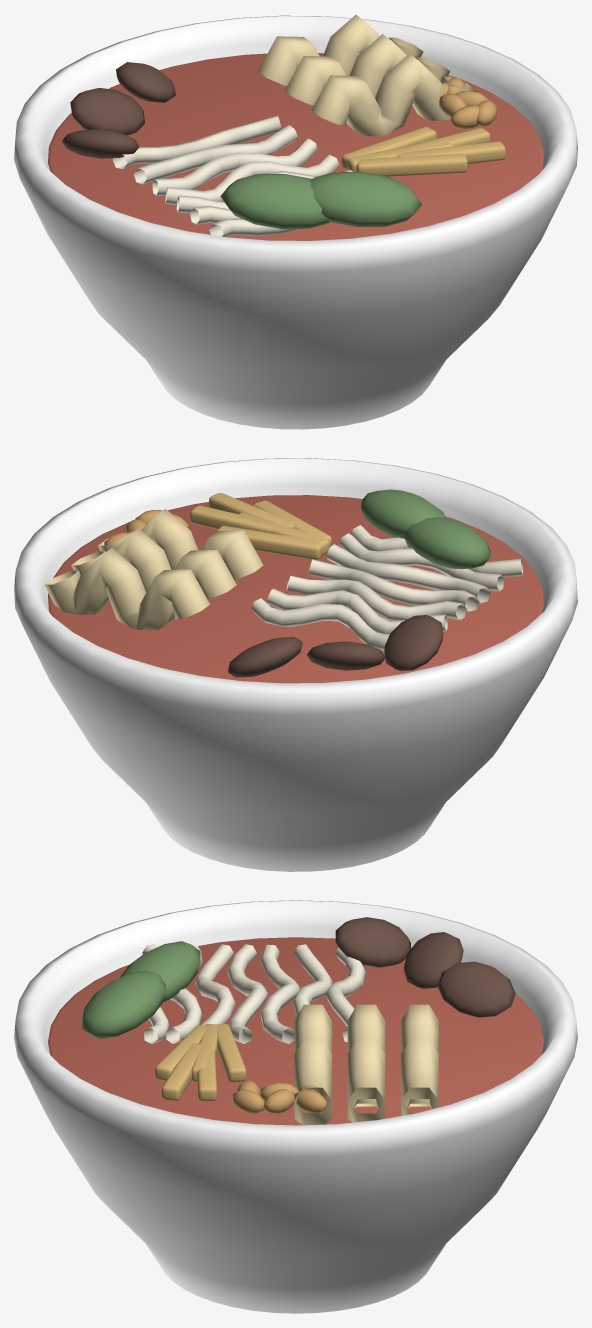
File: option-luosifen.glb
The picture shows the model from 3 angles, top to bottom: view 1: azimuth 30°, elevation 25°; view 2: azimuth 150°, elevation 25°; view 3: azimuth 270°, elevation 25°; orthographic projection.
Visible parts, largest first — view 1: Model_Luosifen_Surface, Model_Luosifen_Tomato, Model_Luosifen_Bread, Model_Luosifen_Rice, Model_Luosifen_Leaf, Model_Luosifen_Patty, Model_Luosifen_Cheese, Model_Luosifen_Bun; view 2: Model_Luosifen_Surface, Model_Luosifen_Tomato, Model_Luosifen_Rice, Model_Luosifen_Bread, Model_Luosifen_Patty, Model_Luosifen_Leaf, Model_Luosifen_Cheese, Model_Luosifen_Bun; view 3: Model_Luosifen_Surface, Model_Luosifen_Tomato, Model_Luosifen_Bread, Model_Luosifen_Rice, Model_Luosifen_Patty, Model_Luosifen_Leaf, Model_Luosifen_Cheese, Model_Luosifen_Bun.
Part boxes in pixels (bbox=[...]): Model_Luosifen_Surface: bbox=[14, 15, 577, 429]; Model_Luosifen_Tomato: bbox=[48, 53, 543, 240]; Model_Luosifen_Bread: bbox=[258, 15, 476, 136]; Model_Luosifen_Rice: bbox=[112, 115, 352, 236]; Model_Luosifen_Leaf: bbox=[220, 172, 421, 228]; Model_Luosifen_Patty: bbox=[62, 62, 175, 158]; Model_Luosifen_Cheese: bbox=[341, 127, 505, 176]; Model_Luosifen_Bun: bbox=[439, 77, 496, 129]; Model_Luosifen_Surface: bbox=[14, 458, 577, 871]; Model_Luosifen_Tomato: bbox=[48, 495, 543, 683]; Model_Luosifen_Rice: bbox=[251, 525, 522, 650]; Model_Luosifen_Bread: bbox=[44, 508, 263, 630]; Model_Luosifen_Patty: bbox=[227, 615, 443, 677]; Model_Luosifen_Leaf: bbox=[360, 489, 490, 569]; Model_Luosifen_Cheese: bbox=[190, 493, 331, 559]; Model_Luosifen_Bun: bbox=[104, 509, 188, 545]; Model_Luosifen_Surface: bbox=[14, 900, 577, 1313]; Model_Luosifen_Tomato: bbox=[48, 937, 543, 1125]; Model_Luosifen_Bread: bbox=[294, 1004, 438, 1125]; Model_Luosifen_Rice: bbox=[142, 944, 366, 1043]; Model_Luosifen_Patty: bbox=[335, 917, 515, 1017]; Model_Luosifen_Leaf: bbox=[82, 941, 200, 1038]; Model_Luosifen_Cheese: bbox=[155, 1024, 246, 1101]; Model_Luosifen_Bun: bbox=[233, 1080, 326, 1113].
Size of the model in its own units: 0.656 by 0.3712 by 0.656.
